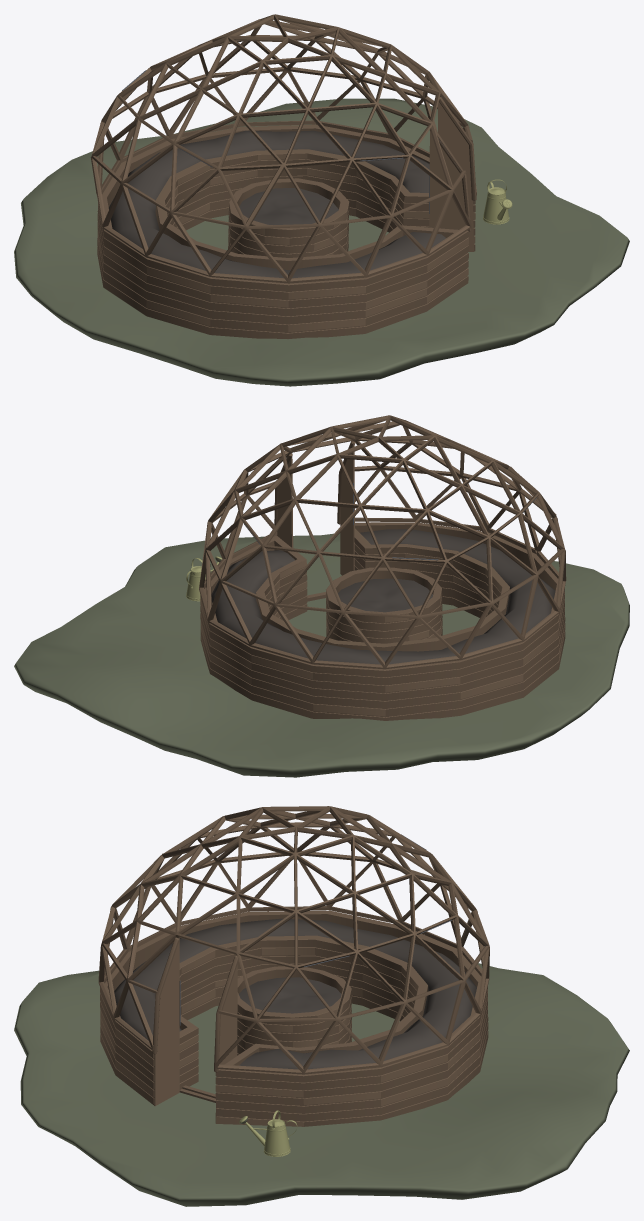
Rendered from теплица_last.glb.
The picture shows the model from 3 angles, top to bottom: view 1: azimuth 30°, elevation 25°; view 2: azimuth 150°, elevation 25°; view 3: azimuth 270°, elevation 25°; orthographic projection. The views are drawn at different scales.
Parts seen in each view (by area): view 1: polySurface370; view 2: polySurface370; view 3: polySurface370.
Boxes of the visible parts, box(x1,y1,x2,y2) form: polySurface370: box(14, 14, 629, 386); polySurface370: box(14, 415, 629, 777); polySurface370: box(14, 806, 629, 1206).
Bounding box in the file's own units: 27.01 × 12.14 × 27.75.
